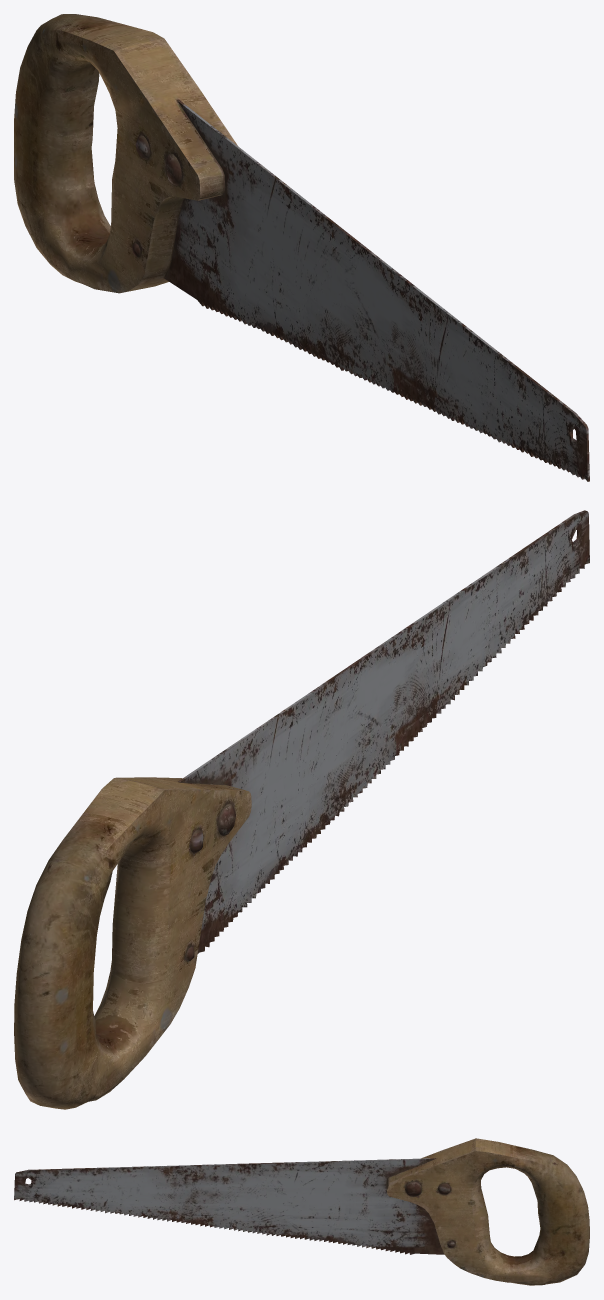
Rendered from handsaw_wood.glb.
3 views of the same model, one above another, from view 1: azimuth 30°, elevation 25°; view 2: azimuth 150°, elevation 25°; view 3: azimuth 270°, elevation 25° (orthographic). The views are drawn at different scales.
Visible parts, largest first — view 1: handsaw_wood; view 2: handsaw_wood; view 3: handsaw_wood.
Part boxes in pixels (left/top/right/bottom): handsaw_wood: left=14, top=14, right=589, bottom=481; handsaw_wood: left=14, top=510, right=589, bottom=1109; handsaw_wood: left=14, top=1138, right=589, bottom=1285.
Size of the model in its own units: 0.0403 by 0.1665 by 0.633.
Materials: 1 (1 with a texture image).
